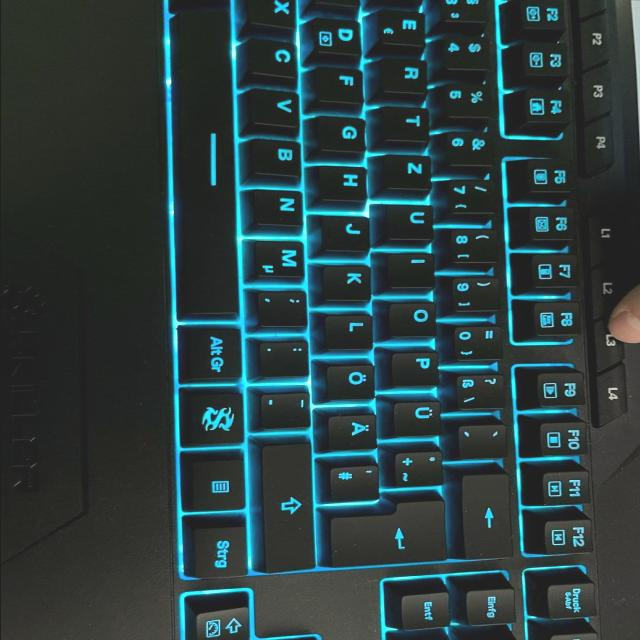0: (444, 321, 508, 361)
3: (437, 0, 491, 22)
4: (437, 30, 495, 69)
5: (437, 79, 499, 117)
6: (440, 127, 500, 166)
7: (444, 175, 504, 215)
8: (444, 225, 502, 264)
9: (448, 272, 504, 312)
accent: (458, 422, 512, 458)
ae: (329, 411, 381, 451)
altgr-right: (180, 323, 246, 382)
b: (252, 136, 306, 177)
c: (249, 35, 301, 78)
comma: (257, 287, 312, 327)
d: (312, 15, 364, 55)
del: (462, 469, 517, 560)
e: (378, 7, 428, 46)
enter: (326, 495, 451, 567)
f: (314, 64, 366, 102)
g: (317, 114, 369, 152)
h: (318, 163, 370, 201)
hash: (327, 462, 383, 502)
i: (387, 250, 439, 288)
j: (320, 213, 374, 252)
k: (323, 263, 375, 301)
keyboard: (132, 0, 640, 640)
l: (325, 311, 377, 349)
m: (251, 237, 309, 279)
minus: (261, 388, 315, 429)
n: (253, 187, 307, 226)
o: (390, 298, 440, 336)
oe: (326, 360, 378, 400)
p: (391, 348, 443, 386)
plus: (392, 449, 448, 487)
point: (259, 338, 313, 378)
r: (381, 54, 431, 94)
s: (305, 0, 363, 15)
shift-right: (261, 435, 317, 574)
space: (173, 6, 238, 320)
ss: (451, 369, 509, 410)
strg-right: (189, 522, 251, 579)
t: (382, 104, 434, 140)
u: (385, 202, 437, 240)
ue: (392, 397, 446, 437)
v: (251, 86, 304, 128)
w: (378, 0, 426, 12)
x: (248, 0, 300, 28)
z: (383, 152, 436, 190)
